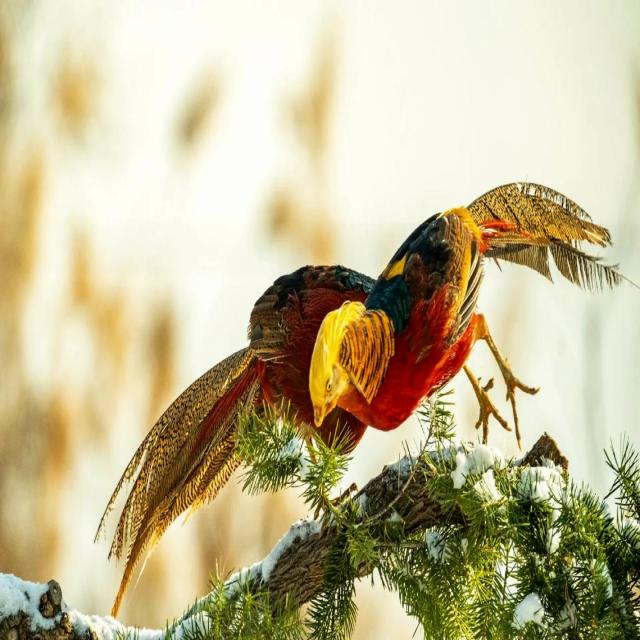Chrysolophus pictus feather: (94, 349, 262, 619), (466, 182, 623, 285)
